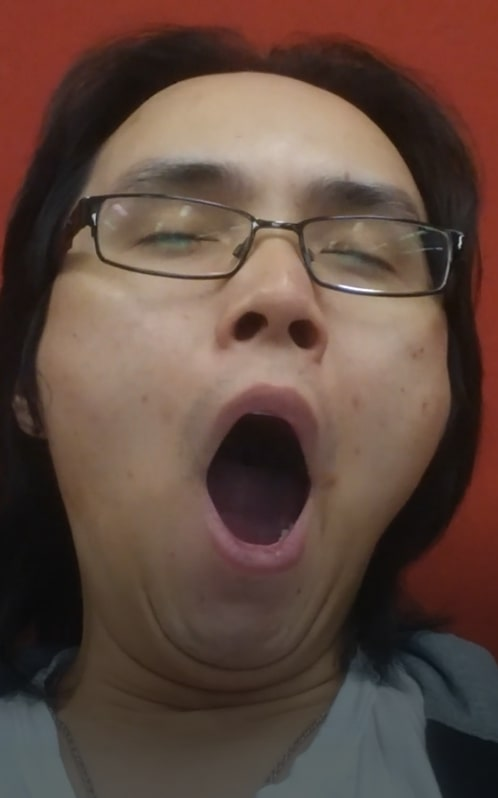Sleeping: (100, 177, 415, 307)
